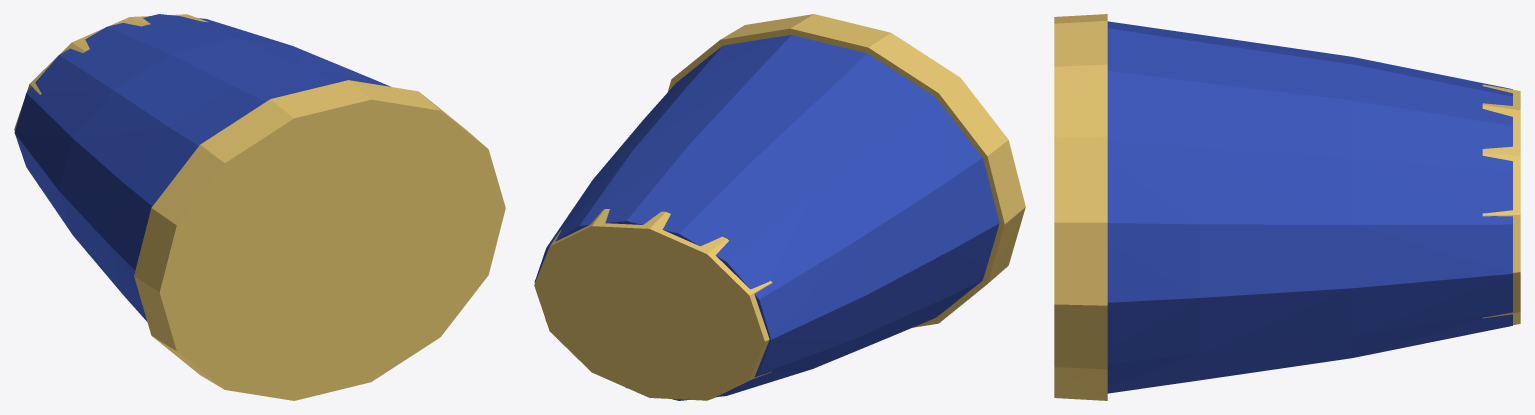
File: drop_wizard_skirt.glb
3 renders of one model, left to right at view 1: azimuth 30°, elevation 25°; view 2: azimuth 150°, elevation 25°; view 3: azimuth 270°, elevation 25°, orthographic. The views are drawn at different scales.
Parts seen in each view (by area): view 1: drop_wizard_skirt; view 2: drop_wizard_skirt; view 3: drop_wizard_skirt.
Boxes of the visible parts, box(x1,y1,x2,y2) form: drop_wizard_skirt: box(14, 14, 505, 400); drop_wizard_skirt: box(534, 14, 1025, 400); drop_wizard_skirt: box(1054, 14, 1520, 400).
Bounding box in the file's own units: 0.4864 × 0.3806 × 0.488.
